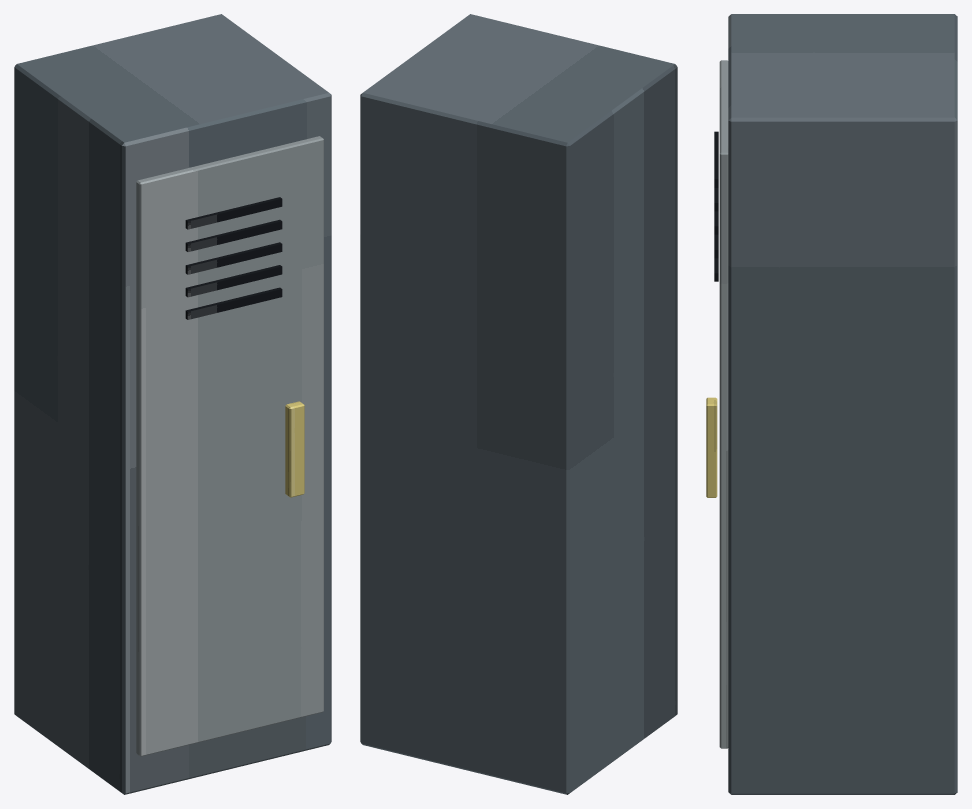
The model's file is locker.glb.
3 renders of one model, left to right at view 1: azimuth 30°, elevation 25°; view 2: azimuth 150°, elevation 25°; view 3: azimuth 270°, elevation 25°, orthographic. The views are drawn at different scales.
Visible parts, largest first — view 1: CabinetBody, FrontDoor, Handle, Vent_4, Vent_0, Vent_1, Vent_2, Vent_3; view 2: CabinetBody; view 3: CabinetBody, FrontDoor, Handle.
Part boxes in pixels (<box>): CabinetBody: <box>14,14,331,794</box>; FrontDoor: <box>136,136,323,756</box>; Handle: <box>285,401,304,497</box>; Vent_4: <box>185,287,282,319</box>; Vent_0: <box>185,197,282,229</box>; Vent_1: <box>185,219,282,251</box>; Vent_2: <box>185,242,282,274</box>; Vent_3: <box>185,265,282,297</box>; CabinetBody: <box>360,14,677,794</box>; CabinetBody: <box>728,14,957,794</box>; FrontDoor: <box>719,60,728,748</box>; Handle: <box>706,397,717,497</box>.
Bounding box in the file's own units: 0.68 × 2.02 × 0.68.
Materials: 1 (1 with a texture image).
